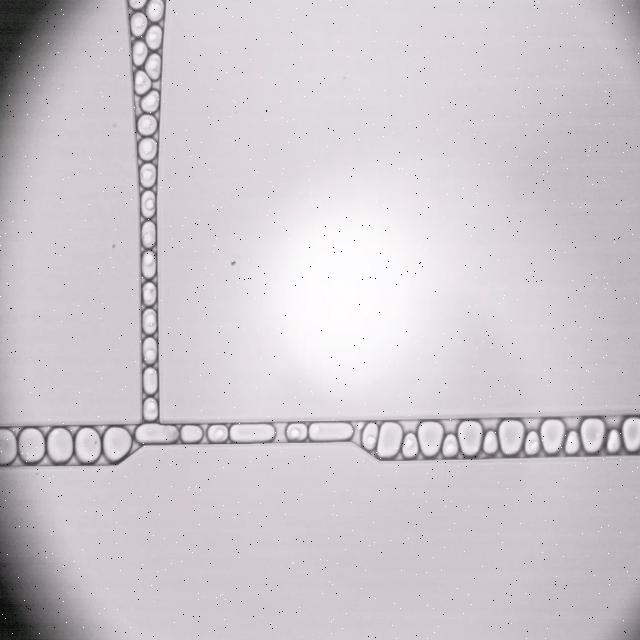L: (362, 423, 378, 451), (138, 114, 157, 136), (402, 432, 418, 458), (145, 53, 160, 80), (140, 163, 156, 188), (141, 90, 159, 112), (139, 138, 157, 160), (130, 13, 147, 36), (141, 191, 155, 218), (142, 251, 156, 278), (143, 337, 157, 364), (181, 425, 202, 443), (286, 423, 307, 441), (143, 368, 158, 393), (146, 26, 162, 49), (133, 40, 147, 66), (443, 434, 458, 458), (483, 430, 498, 454), (524, 431, 539, 455), (147, 0, 164, 21), (143, 308, 157, 333), (135, 71, 150, 94), (208, 425, 228, 442), (143, 398, 158, 420), (142, 222, 155, 247), (142, 282, 156, 305), (565, 431, 579, 454), (607, 429, 620, 453), (129, 0, 146, 8)
S: (103, 427, 131, 461), (75, 427, 101, 463), (18, 428, 44, 463), (498, 420, 524, 455), (47, 427, 72, 463), (377, 422, 402, 458), (418, 421, 443, 457), (580, 418, 605, 453), (230, 424, 275, 443), (136, 423, 178, 443), (458, 421, 482, 456), (540, 419, 564, 454), (309, 422, 352, 441), (622, 417, 640, 452), (0, 429, 16, 465)
